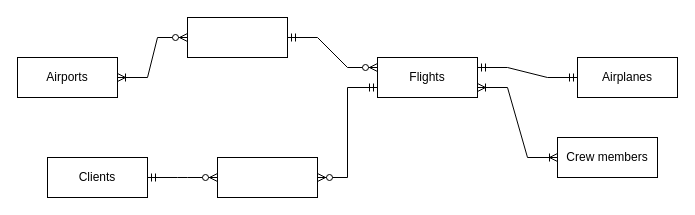
The diagram is 695 pixels wide and 215 high, and some of its shapes have lost their labels. Here are the shapes that lost their labels. From the top down, the centre of each, then its label:
At (237,37): "Routes".
At (267,177): "Tickets".
